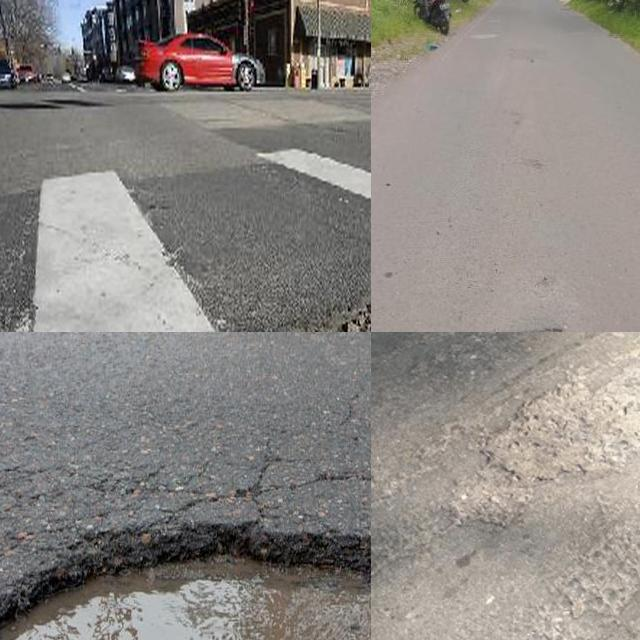Lubang: (0, 504, 371, 640), (495, 385, 640, 475)
